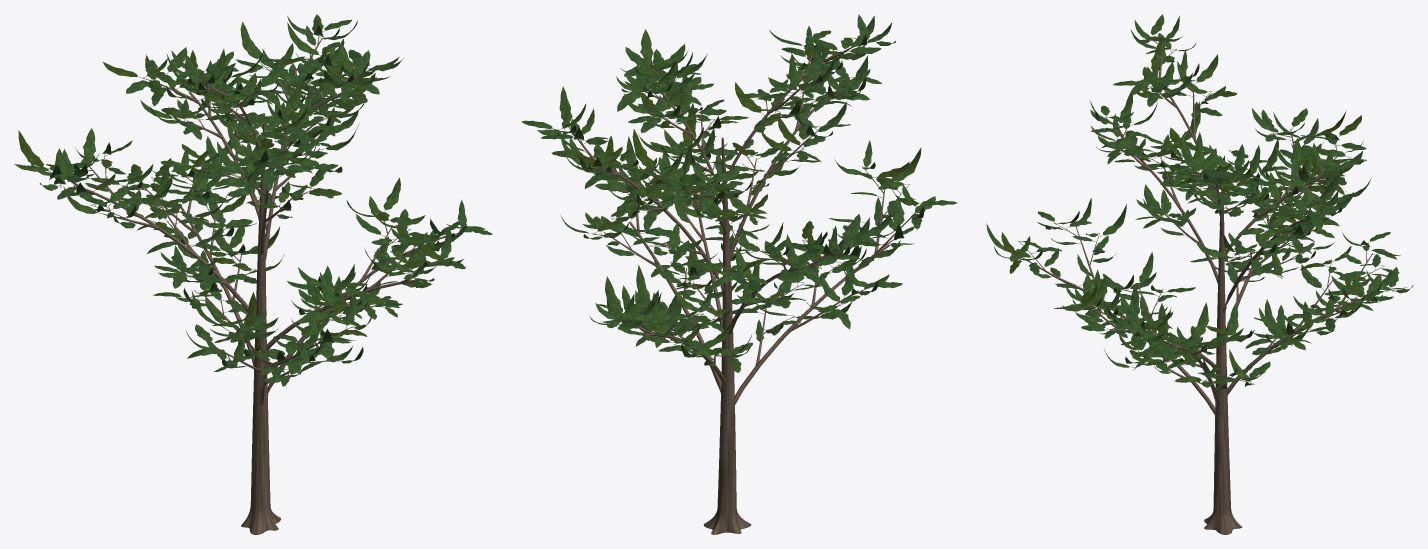
The model's file is asset.glb.
3 renders of one model, left to right at view 1: azimuth 30°, elevation 25°; view 2: azimuth 150°, elevation 25°; view 3: azimuth 270°, elevation 25°, orthographic. The views are drawn at different scales.
Visible parts, largest first — view 1: Foliage, Bark; view 2: Foliage, Bark; view 3: Foliage, Bark.
Part boxes in pixels (x1,y1,x2,y2): Foliage: (15, 14, 492, 386); Bark: (47, 31, 458, 534); Foliage: (521, 14, 957, 372); Bark: (553, 41, 926, 534); Foliage: (986, 14, 1413, 390); Bark: (1013, 36, 1395, 534).
Size of the model in its own units: 1.87 by 2.45 by 2.07.
2 materials, 2 textured.
